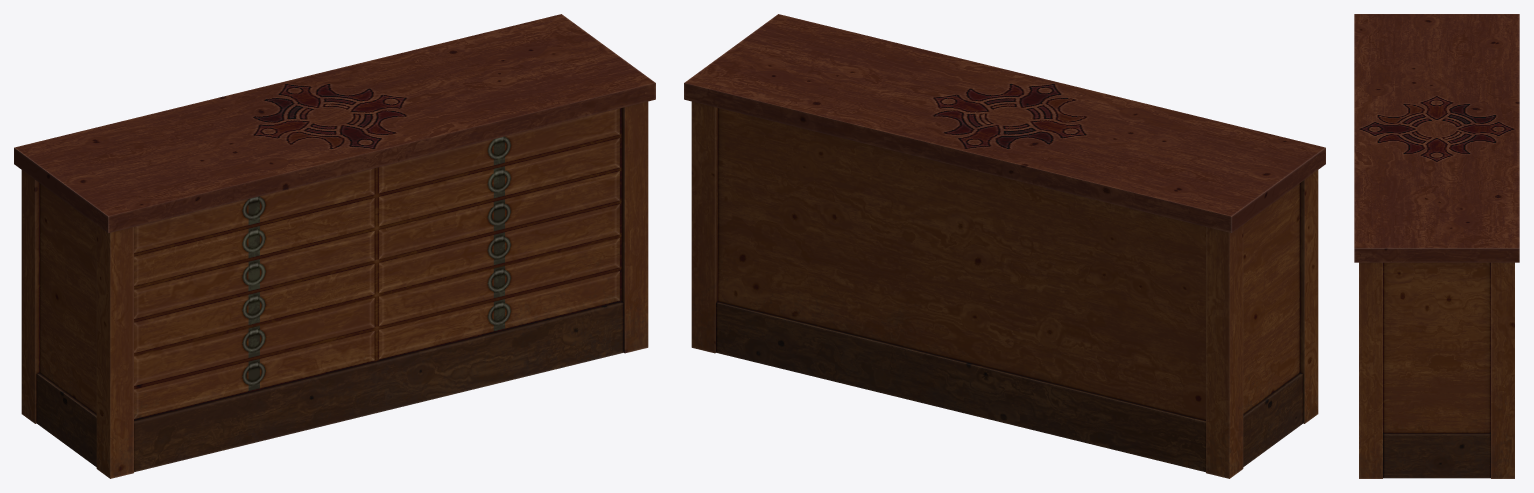
File: DS_WizLab_Furn_FlatDrawerRack.fbx
The picture shows the model from 3 angles, left to right: view 1: azimuth 30°, elevation 25°; view 2: azimuth 150°, elevation 25°; view 3: azimuth 270°, elevation 25°; orthographic projection. The views are drawn at different scales.
Parts seen in each view (by area): view 1: DS_WizLab_Furn_FlatDrawerRack; view 2: DS_WizLab_Furn_FlatDrawerRack; view 3: DS_WizLab_Furn_FlatDrawerRack.
Boxes of the visible parts, bbox=[...] form: DS_WizLab_Furn_FlatDrawerRack: bbox=[14, 14, 655, 478]; DS_WizLab_Furn_FlatDrawerRack: bbox=[684, 14, 1325, 478]; DS_WizLab_Furn_FlatDrawerRack: bbox=[1354, 14, 1519, 478].
Size of the model in its own units: 173 by 80.18 by 51.63.
Materials: 1 (1 with a texture image).
